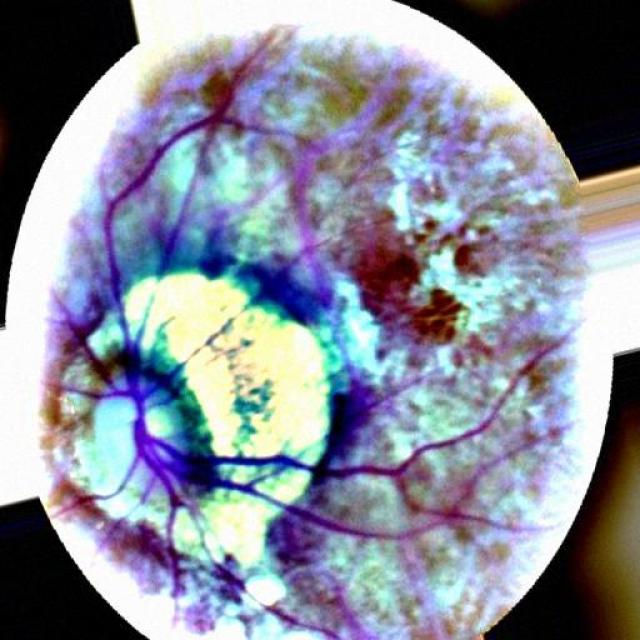Macula: (411, 289, 462, 342)
Optic Disk: (61, 276, 338, 577)
